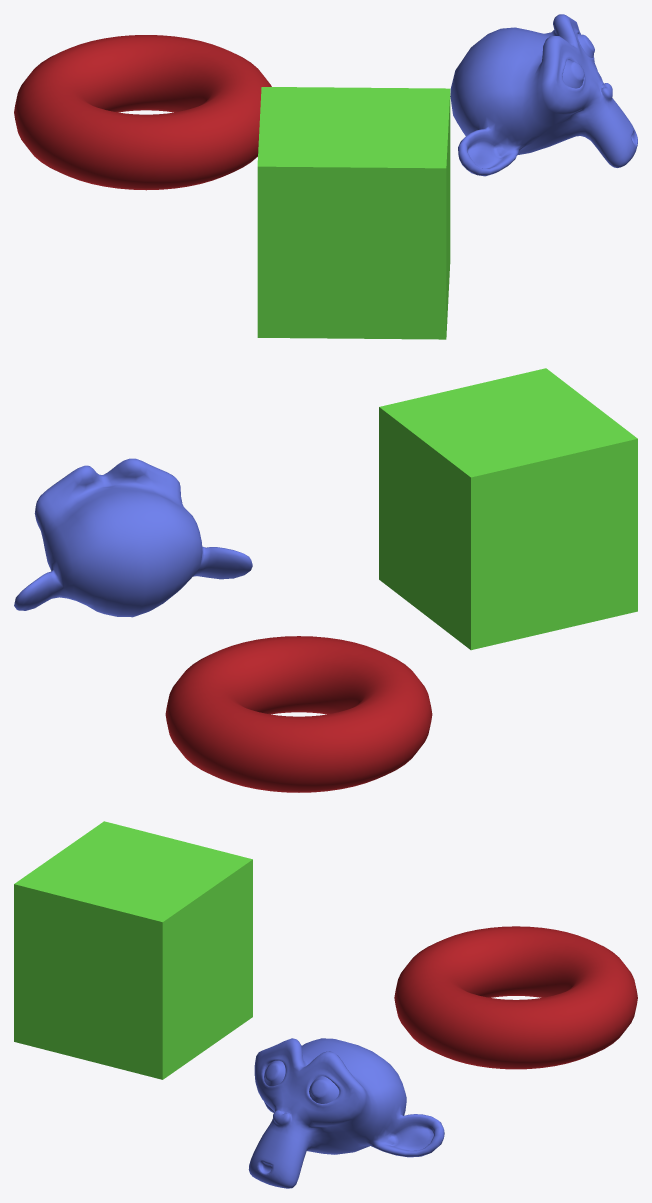
Rendered from testSceneQuentin.glb.
3 views of the same model, one above another, from view 1: azimuth 30°, elevation 25°; view 2: azimuth 150°, elevation 25°; view 3: azimuth 270°, elevation 25° (orthographic). The views are drawn at different scales.
Visible parts, largest first — view 1: Cube, Torus, Suzanne; view 2: Cube, Torus, Suzanne; view 3: Cube, Torus, Suzanne.
Boxes of the visible parts, left/top/right/bottom form: Cube: left=257, top=87, right=450, bottom=339; Torus: left=14, top=35, right=271, bottom=190; Suzanne: left=450, top=14, right=637, bottom=176; Cube: left=379, top=368, right=637, bottom=650; Torus: left=165, top=636, right=432, bottom=792; Suzanne: left=14, top=458, right=252, bottom=617; Cube: left=14, top=821, right=252, bottom=1079; Torus: left=394, top=926, right=637, bottom=1069; Suzanne: left=248, top=1038, right=444, bottom=1188.
Size of what is drawn, in the model's own units: 5.85 by 2 by 7.17.
